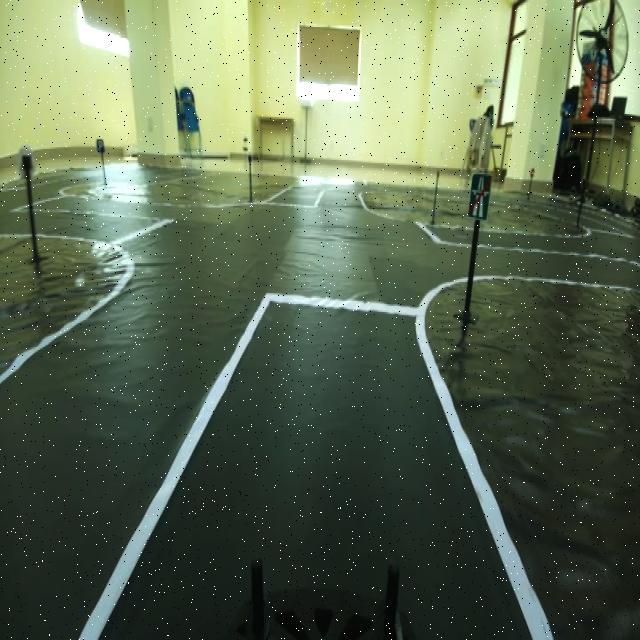highway_exit: (470, 170, 492, 229)
